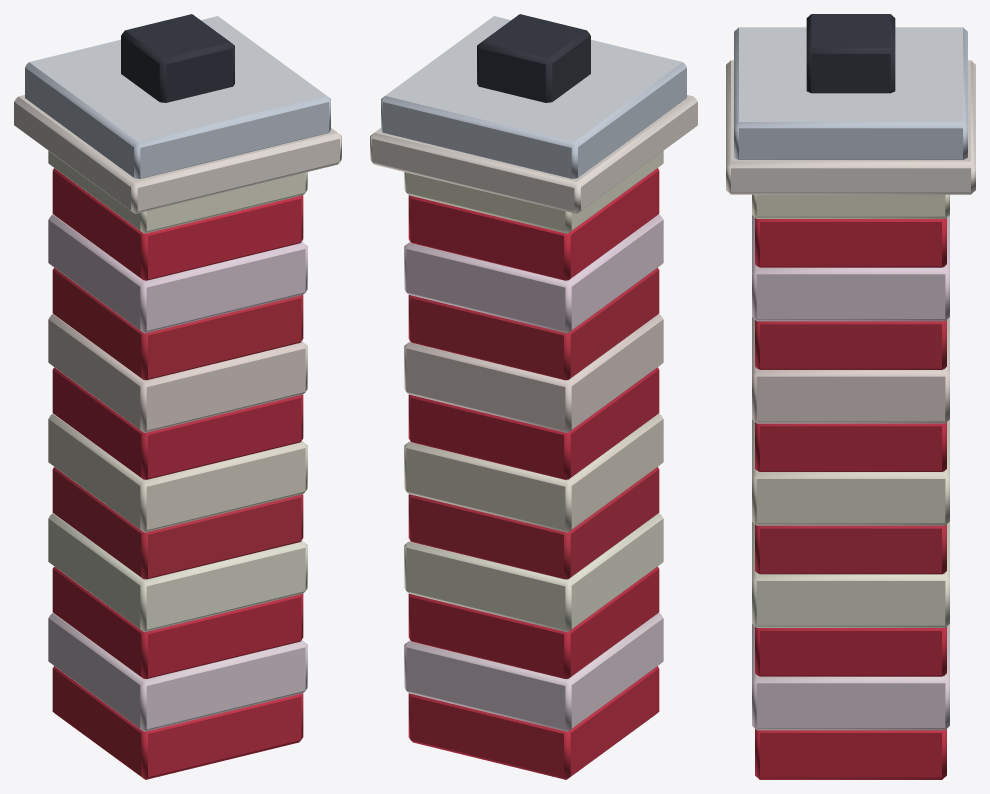
Rendered from CandyHouse_Chimney.glb.
The picture shows the model from 3 angles, left to right: view 1: azimuth 30°, elevation 25°; view 2: azimuth 150°, elevation 25°; view 3: azimuth 270°, elevation 25°; orthographic projection. The views are drawn at different scales.
Visible parts, largest first — view 1: CandyHouse_Chimney; view 2: CandyHouse_Chimney; view 3: CandyHouse_Chimney.
Boxes of the visible parts, x1=… form: CandyHouse_Chimney: x1=14, y1=14, x2=341, y2=779; CandyHouse_Chimney: x1=370, y1=14, x2=697, y2=779; CandyHouse_Chimney: x1=726, y1=14, x2=975, y2=779.
Bounding box in the file's own units: 3.1 × 9.73 × 3.1.
